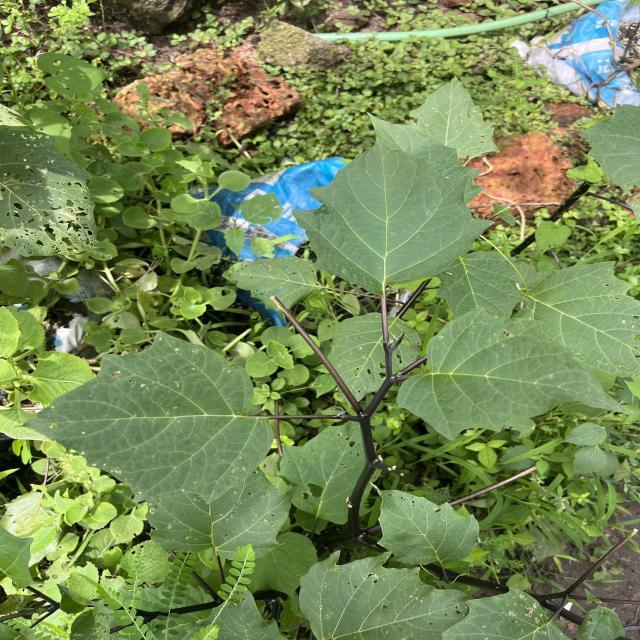Datura metal linn: (12, 328, 276, 506), (288, 133, 498, 300), (394, 304, 636, 442), (366, 477, 483, 567)
